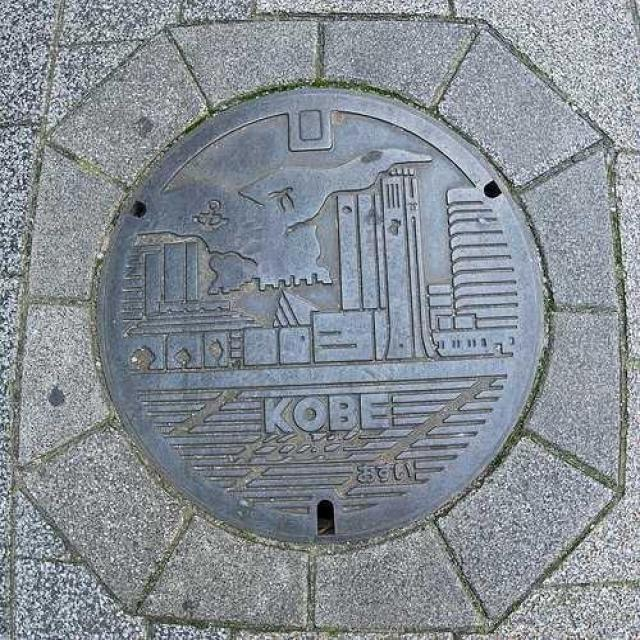manhole: (91, 85, 553, 553)
